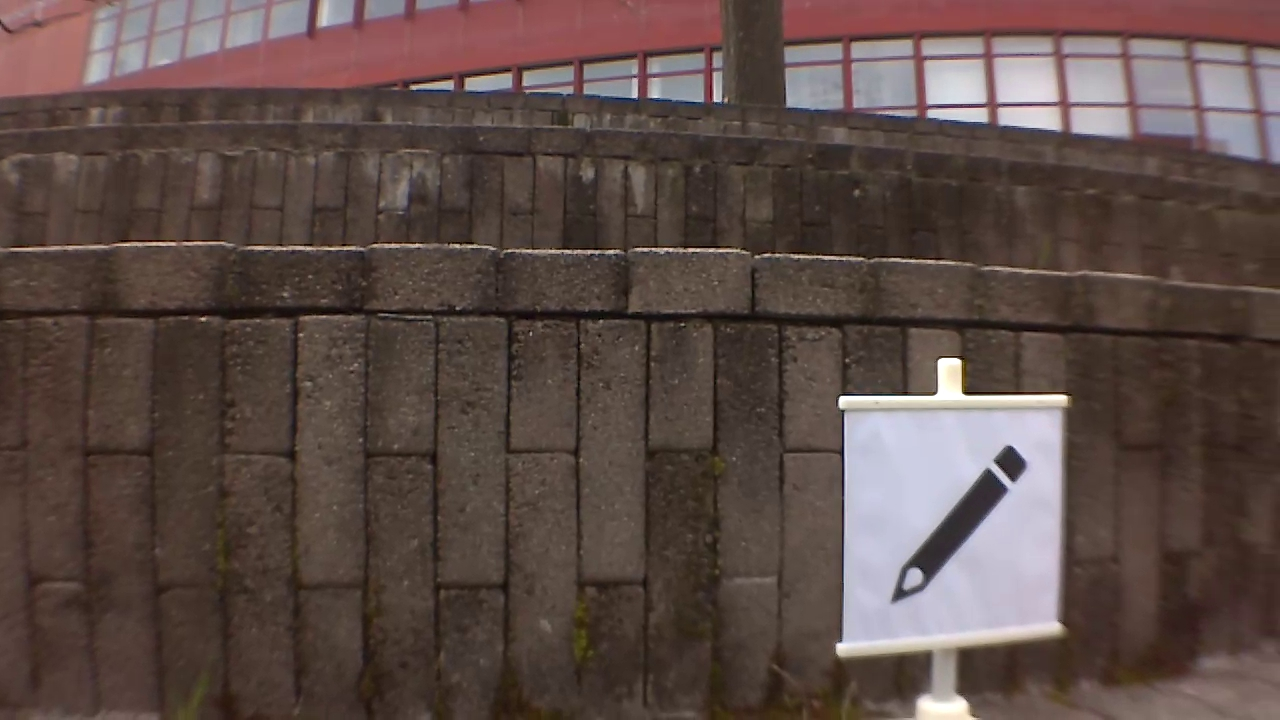pencil: (886, 436, 1036, 610)
